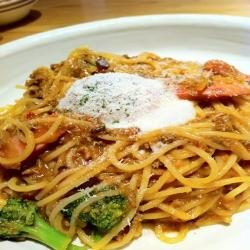bolonese_pasta: (3, 50, 250, 229)
